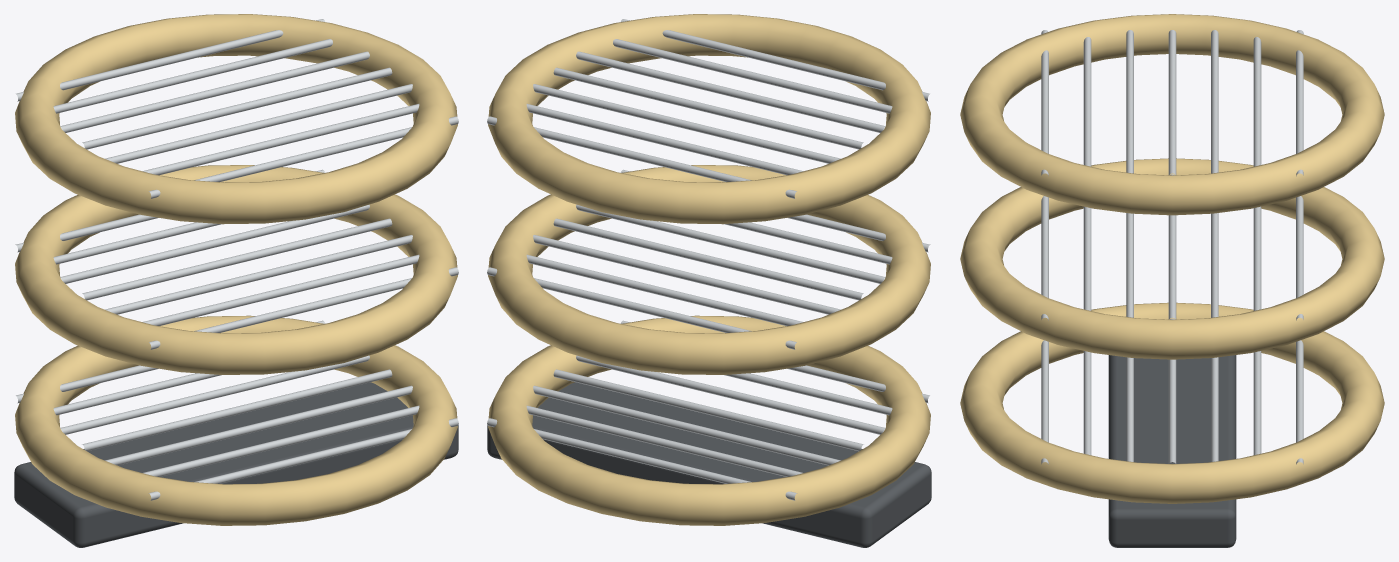
File: geotechnical-soil-testing-laboratory-nested-sieve-cass-0aaf59b5__39069.glb
3 views of the same model, side by side, from view 1: azimuth 30°, elevation 25°; view 2: azimuth 150°, elevation 25°; view 3: azimuth 270°, elevation 25° (orthographic). The views are drawn at different scales.
Visible parts, largest first — view 1: nested-sieve-cassette; view 2: nested-sieve-cassette; view 3: nested-sieve-cassette.
Part boxes in pixels (x1,y1,x2,y2): nested-sieve-cassette: (14,14,458,547); nested-sieve-cassette: (487,14,931,547); nested-sieve-cassette: (960,14,1384,547).
Bounding box in the file's own units: 0.2 × 0.19 × 0.2.
